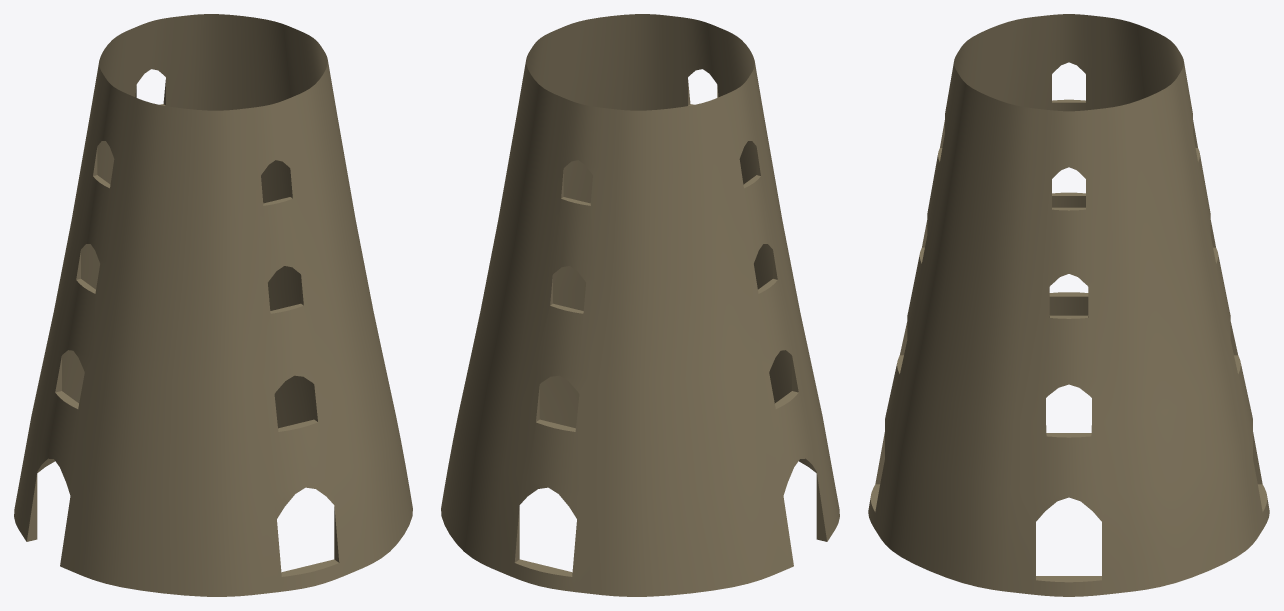
3 views of the same model, side by side, from view 1: azimuth 30°, elevation 25°; view 2: azimuth 150°, elevation 25°; view 3: azimuth 270°, elevation 25° (orthographic).
Parts seen in each view (by area): view 1: Circle.014; view 2: Circle.014; view 3: Circle.014.
Boxes of the visible parts, box(x1,y1,x2,y2) form: Circle.014: box(14, 14, 412, 596); Circle.014: box(441, 14, 839, 596); Circle.014: box(868, 14, 1269, 596).
Bounding box in the file's own units: 49.6 × 61.98 × 50.2.
